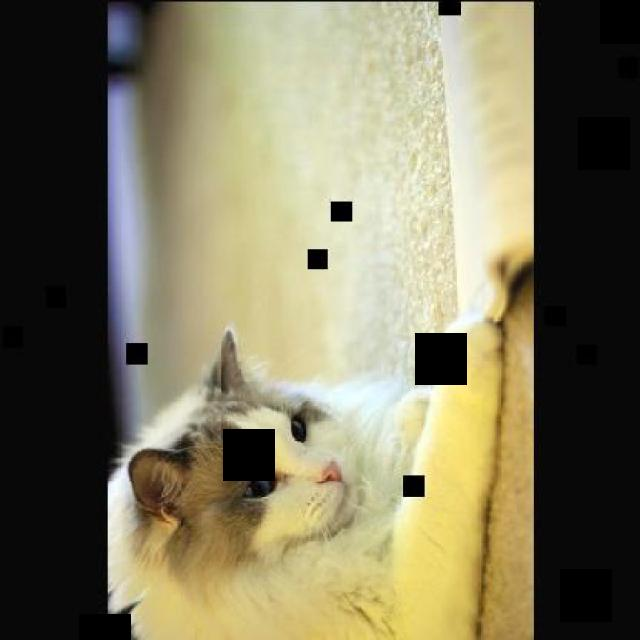unauthorized: (106, 324, 428, 638)
